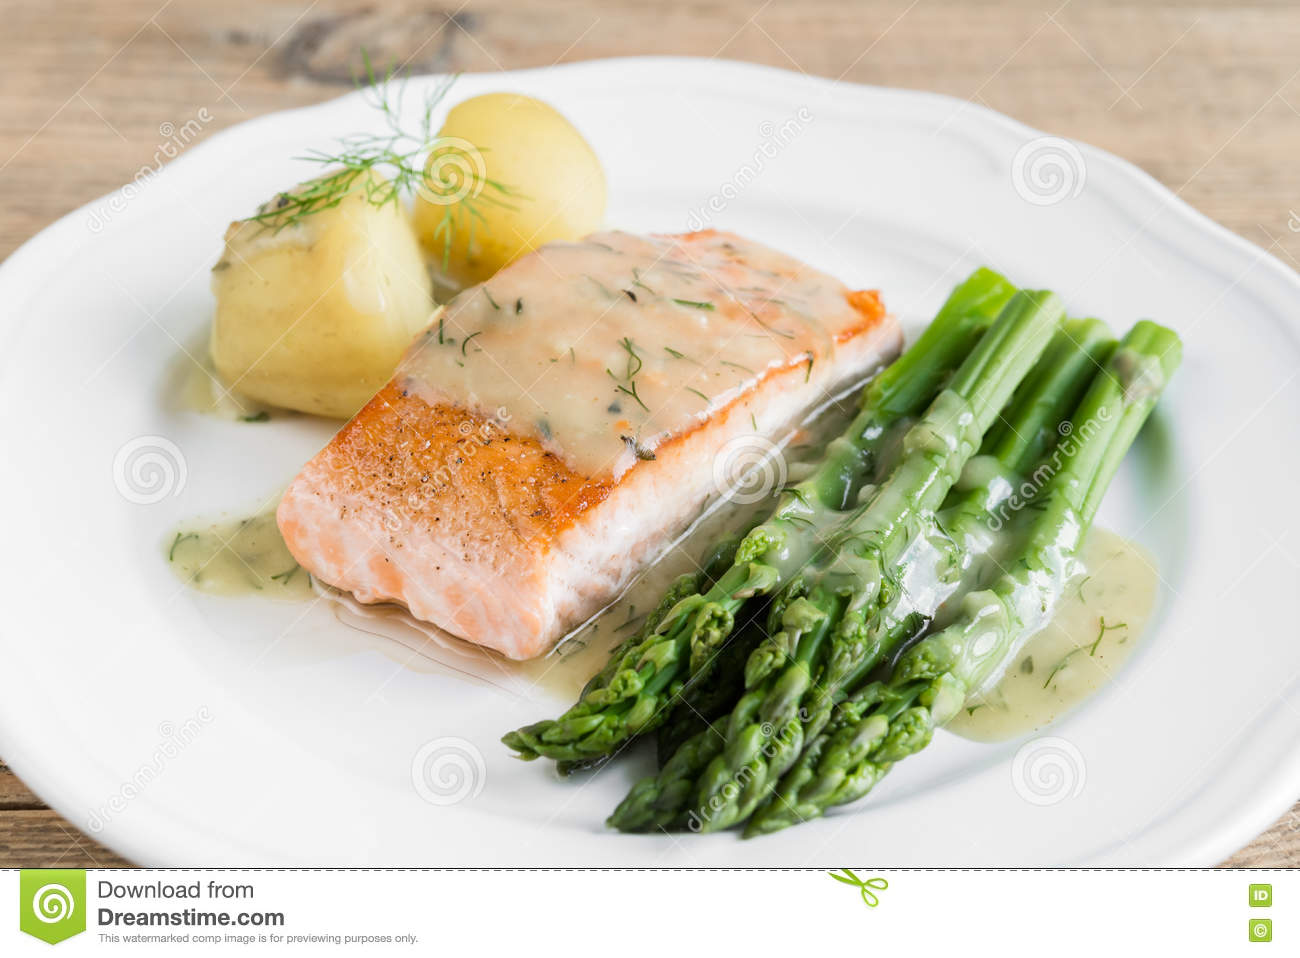boiled potatoes: (223, 165, 430, 385), (407, 111, 650, 268)
